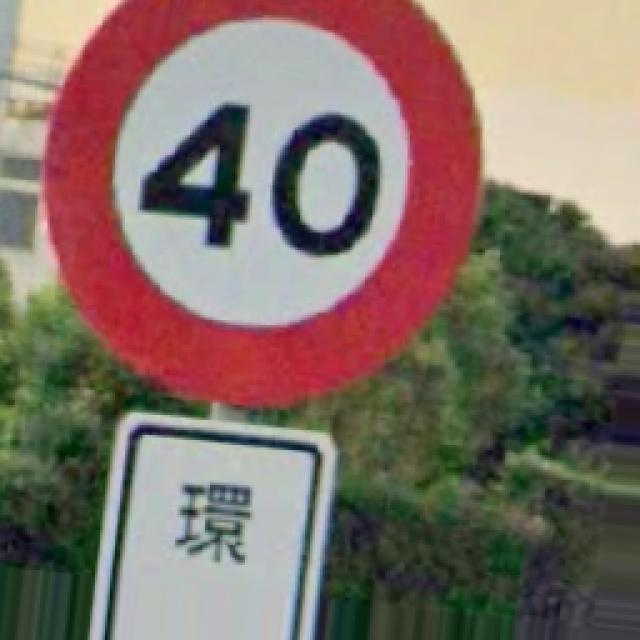Speed Limit -40-: (45, 0, 478, 402)
